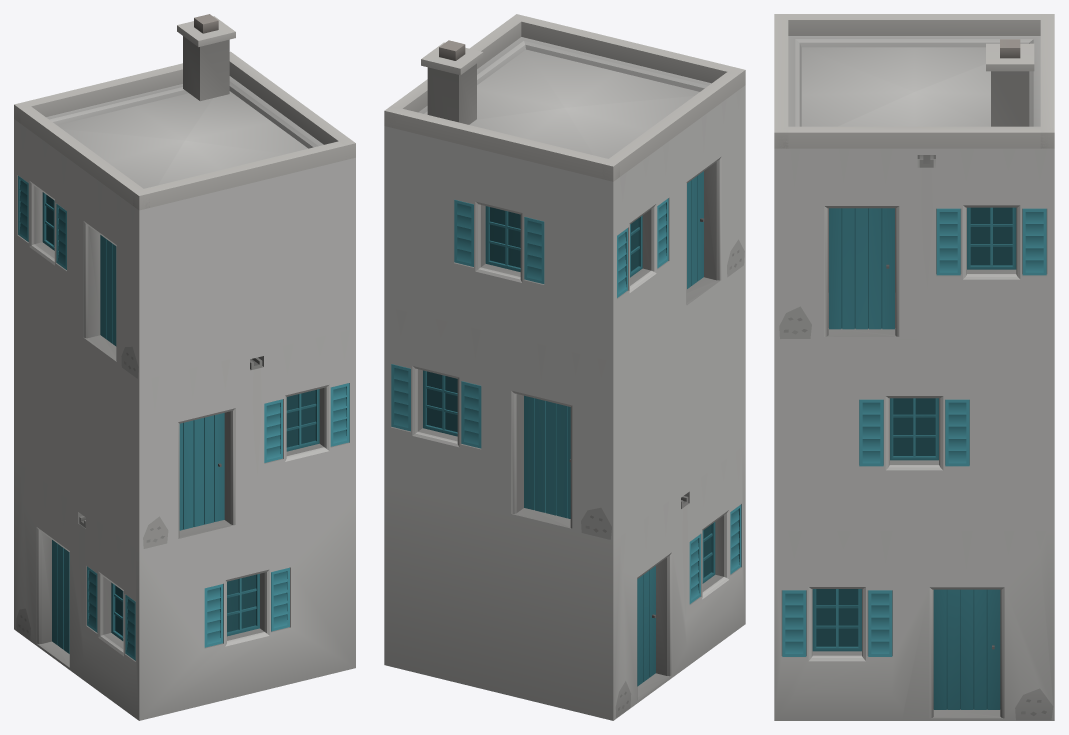
3 views of the same model, side by side, from view 1: azimuth 30°, elevation 25°; view 2: azimuth 150°, elevation 25°; view 3: azimuth 270°, elevation 25° (orthographic). The views are drawn at different scales.
Visible parts, largest first — view 1: cube3; view 2: cube3; view 3: cube3.
Part boxes in pixels (bbox=[...]): cube3: bbox=[14, 14, 355, 720]; cube3: bbox=[384, 14, 745, 720]; cube3: bbox=[774, 14, 1054, 720].
Size of the model in its own units: 4.4 by 11.3 by 4.4.
